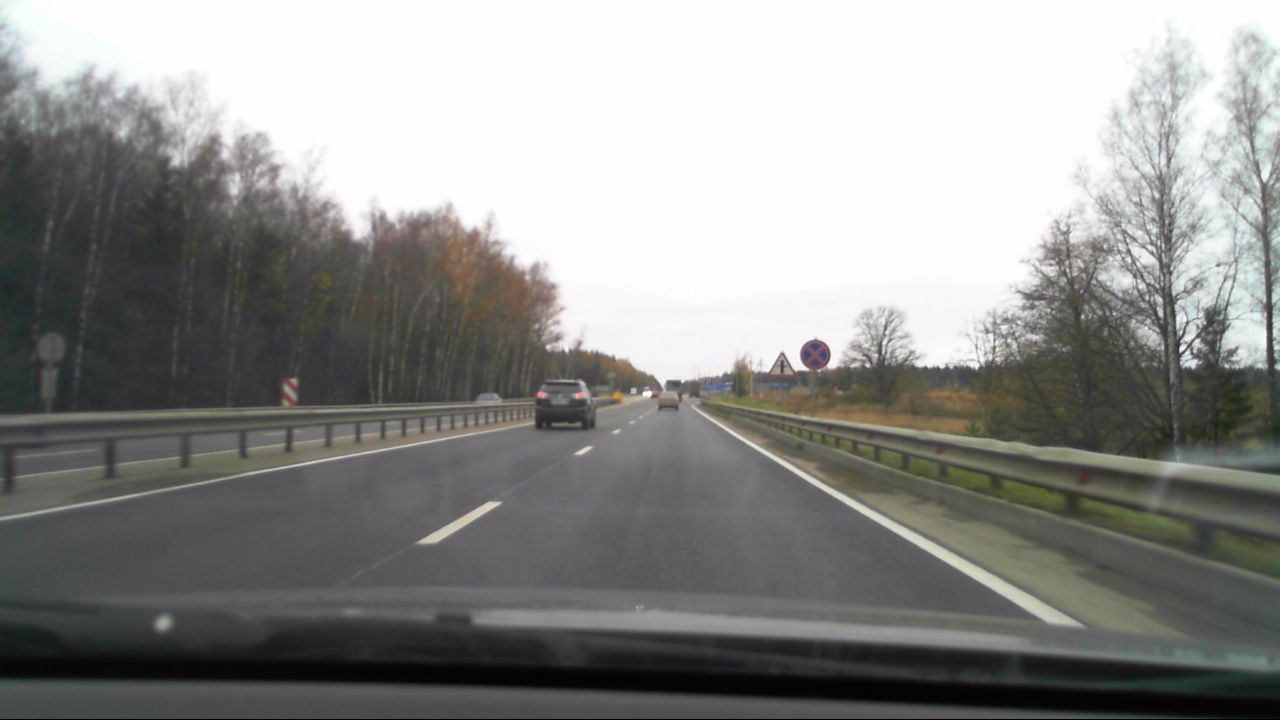No Parking: (799, 338, 830, 371)
